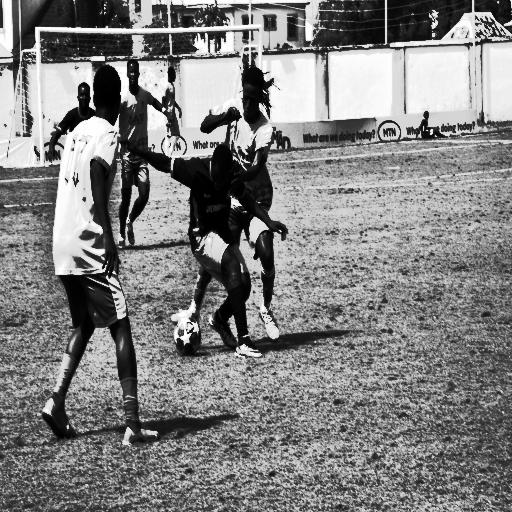ball: (174, 312, 203, 357)
keeper2: (163, 54, 181, 164)
team1: (28, 58, 166, 476), (226, 58, 272, 358), (114, 45, 158, 247)
team2: (158, 142, 265, 369), (43, 45, 96, 136)
